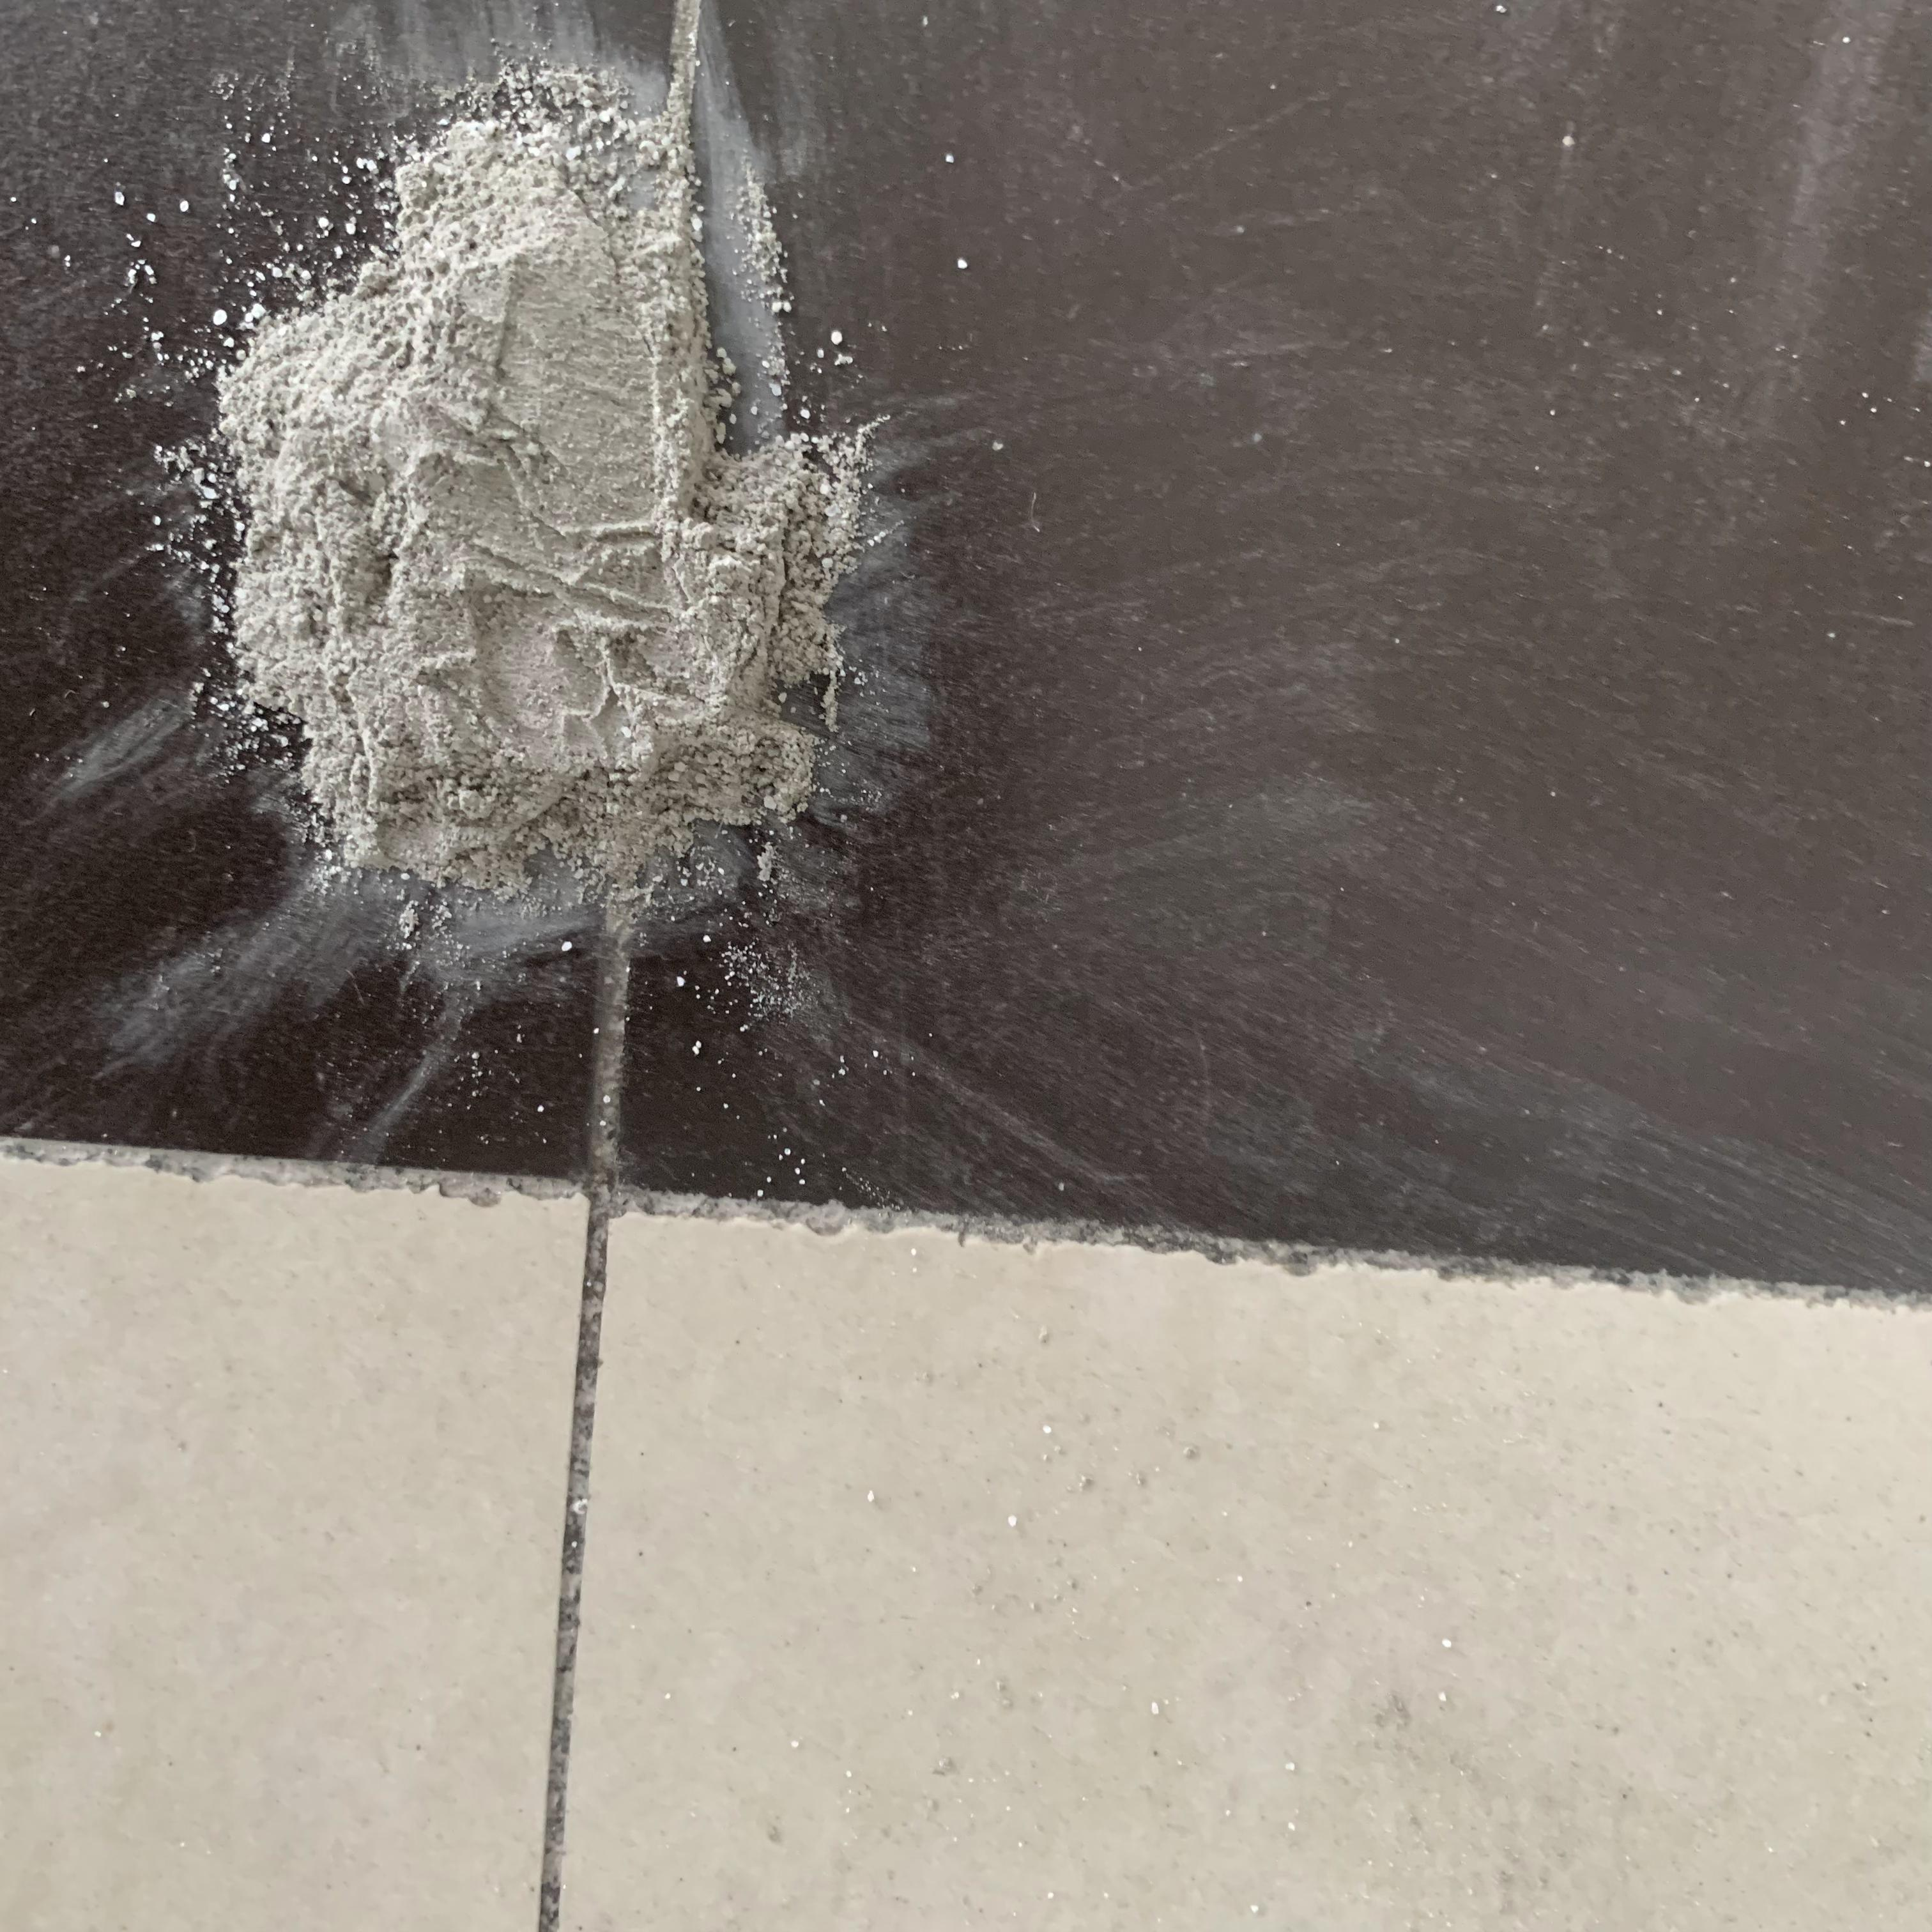ash pile: (41, 0, 975, 1168)
